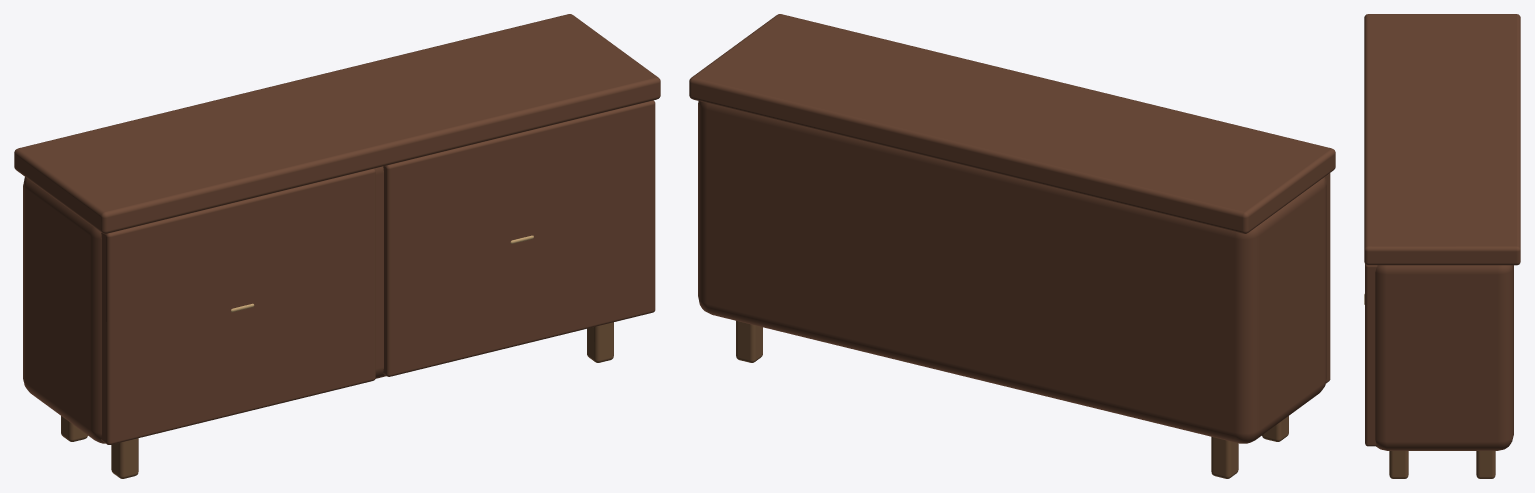
The model's file is linea-sideboard.glb.
The picture shows the model from 3 angles, left to right: view 1: azimuth 30°, elevation 25°; view 2: azimuth 150°, elevation 25°; view 3: azimuth 270°, elevation 25°; orthographic projection. The views are drawn at different scales.
Visible parts, largest first — view 1: Door (×2), Top, Cabinet, Leg (×2); view 2: Cabinet, Top, Leg (×2), Door; view 3: Top, Cabinet, Door, Leg (×2).
Part boxes in pixels (x1,y1,x2,y2): Door (×2): (101,100,655,444); Top: (14,14,660,233); Cabinet: (23,166,386,443); Leg (×2): (111,322,613,478); Cabinet: (698,101,1326,443); Top: (689,14,1335,233); Leg (×2): (736,321,1238,478); Door: (1325,173,1330,383); Top: (1364,14,1520,265); Cabinet: (1375,265,1513,450); Door: (1365,264,1377,446); Leg (×2): (1389,451,1495,478).
Bounding box in the file's own units: 1.6 × 0.78 × 0.45.
